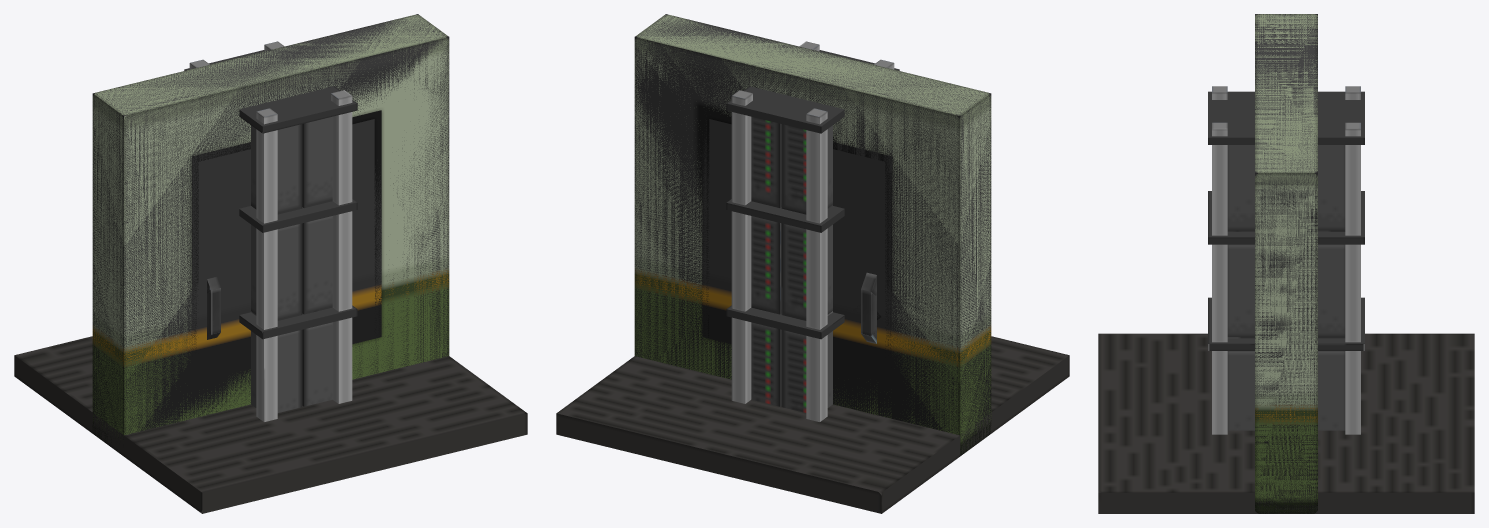
The model's file is Generator.fbx.
3 renders of one model, left to right at view 1: azimuth 30°, elevation 25°; view 2: azimuth 150°, elevation 25°; view 3: azimuth 270°, elevation 25°, orthographic.
Visible parts, largest first — view 1: Window, DoorWall, Floor, Wall, cube_15, cube_16, cube_22, cube_23, cube_18, cube_24, cube_25, cube_20 (+4 smaller); view 2: Window, Wall, DoorWall, Floor, cube_14, cube_13, cube_22, cube_23, cube_18, cube_24, cube_25, cube_20 (+4 smaller); view 3: Floor, Window, DoorWall, cube_23, cube_25, cube_13, cube_16, cube_21, cube_18, Wall, cube_17, cube_12.
Boxes of the visible parts, x1,y1,x2,y2 form: Window: (92,14,449,452); DoorWall: (92,15,449,449); Floor: (14,336,527,513); Wall: (92,14,449,441); cube_15: (256,108,277,421); cube_16: (331,90,352,403); cube_22: (251,223,302,320); cube_23: (302,216,332,314); cube_18: (184,50,357,133); cube_24: (251,124,302,214); cube_25: (302,116,332,207); cube_20: (251,330,302,412); Window: (634,14,991,454); Wall: (634,14,991,456); DoorWall: (634,15,991,454); Floor: (556,336,1069,513); cube_14: (806,108,827,421); cube_13: (731,90,752,403); cube_22: (781,223,832,320); cube_23: (751,216,781,314); cube_18: (726,50,899,133); cube_24: (781,124,832,214); cube_25: (751,116,781,207); cube_20: (781,330,832,412); Floor: (1098,333,1474,513); Window: (1255,14,1317,513); DoorWall: (1255,14,1317,513); cube_23: (1227,244,1345,338); cube_25: (1227,145,1345,231); cube_13: (1345,122,1360,434); cube_16: (1212,122,1227,434); cube_21: (1227,351,1345,430); cube_18: (1208,91,1364,144); Wall: (1255,14,1317,513); cube_17: (1208,191,1364,244); cube_12: (1208,297,1364,350).
Bounding box in the file's own units: 300 × 300 × 300.
